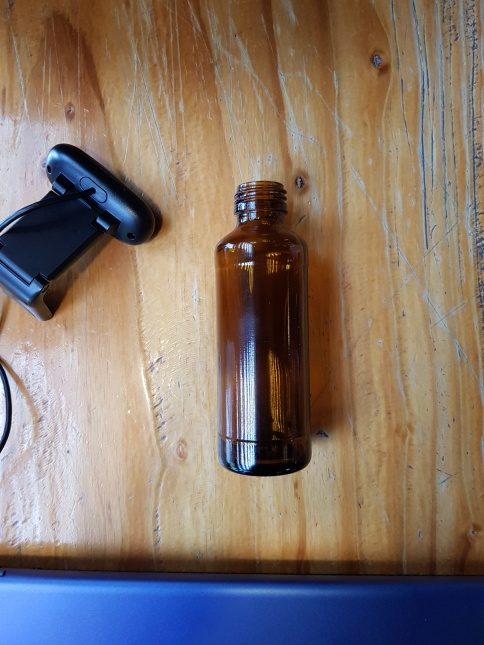Glass: (210, 180, 319, 480)
